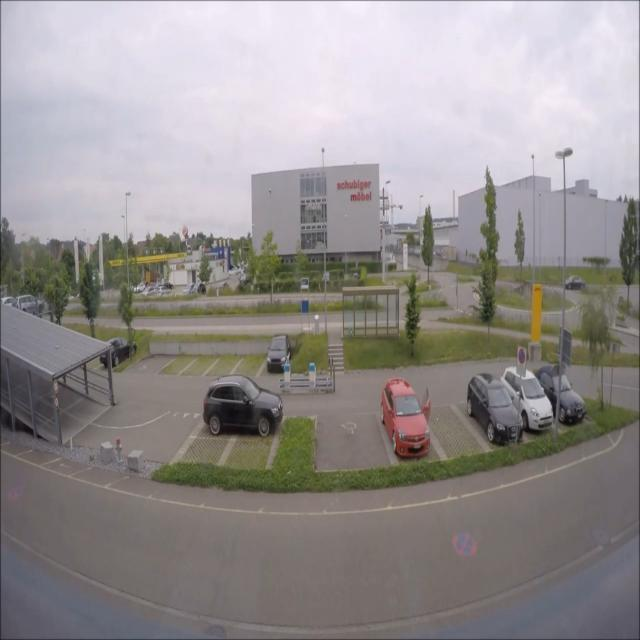space-empty: (312, 410, 387, 472), (428, 400, 476, 458), (238, 352, 268, 379), (212, 353, 240, 377), (189, 350, 213, 376), (165, 354, 193, 374)
space-occupied: (463, 373, 522, 451), (379, 394, 435, 464), (202, 388, 283, 433), (545, 357, 588, 421), (504, 362, 551, 415), (265, 332, 294, 370)
